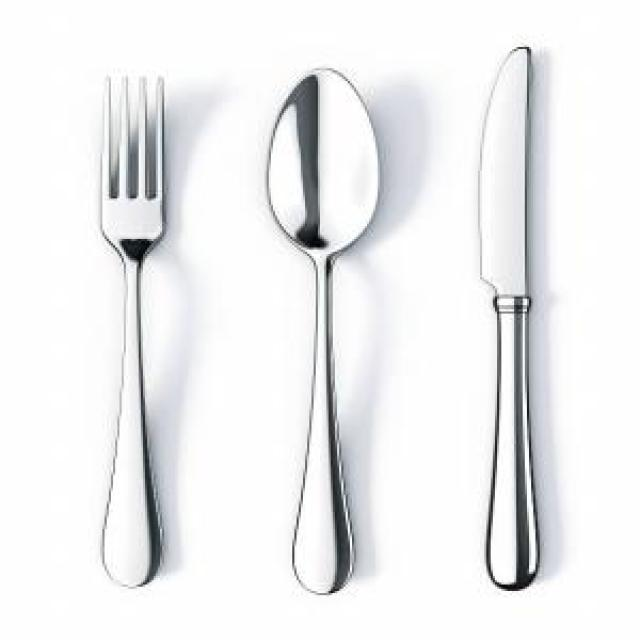knife: (474, 41, 556, 592)
